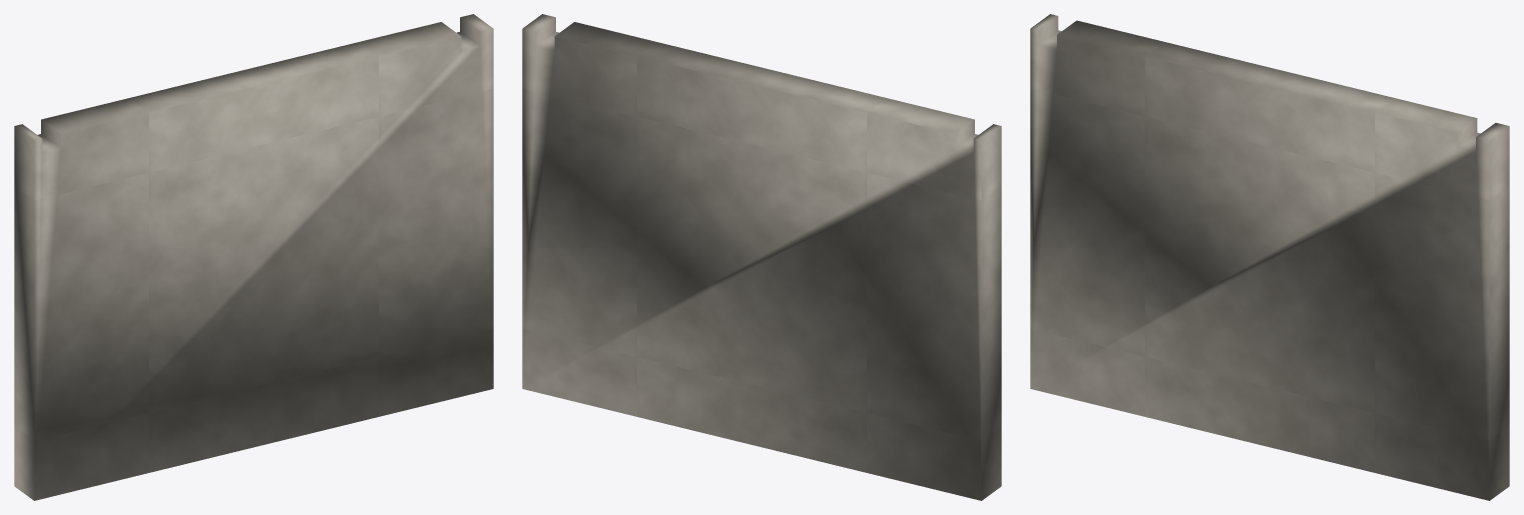
The model's file is wall_concrete_4m.glb.
The picture shows the model from 3 angles, left to right: view 1: azimuth 30°, elevation 25°; view 2: azimuth 150°, elevation 25°; view 3: azimuth 330°, elevation 25°; orthographic projection.
Visible parts, largest first — view 1: wall_concrete_4m; view 2: wall_concrete_4m; view 3: wall_concrete_4m.
Boxes of the visible parts, x1,y1,x2,y2 form: wall_concrete_4m: (14, 14, 493, 500); wall_concrete_4m: (522, 14, 1001, 500); wall_concrete_4m: (1030, 14, 1509, 500).
Size of the model in its own units: 4 by 3 by 0.3.
2 materials, 2 textured.
